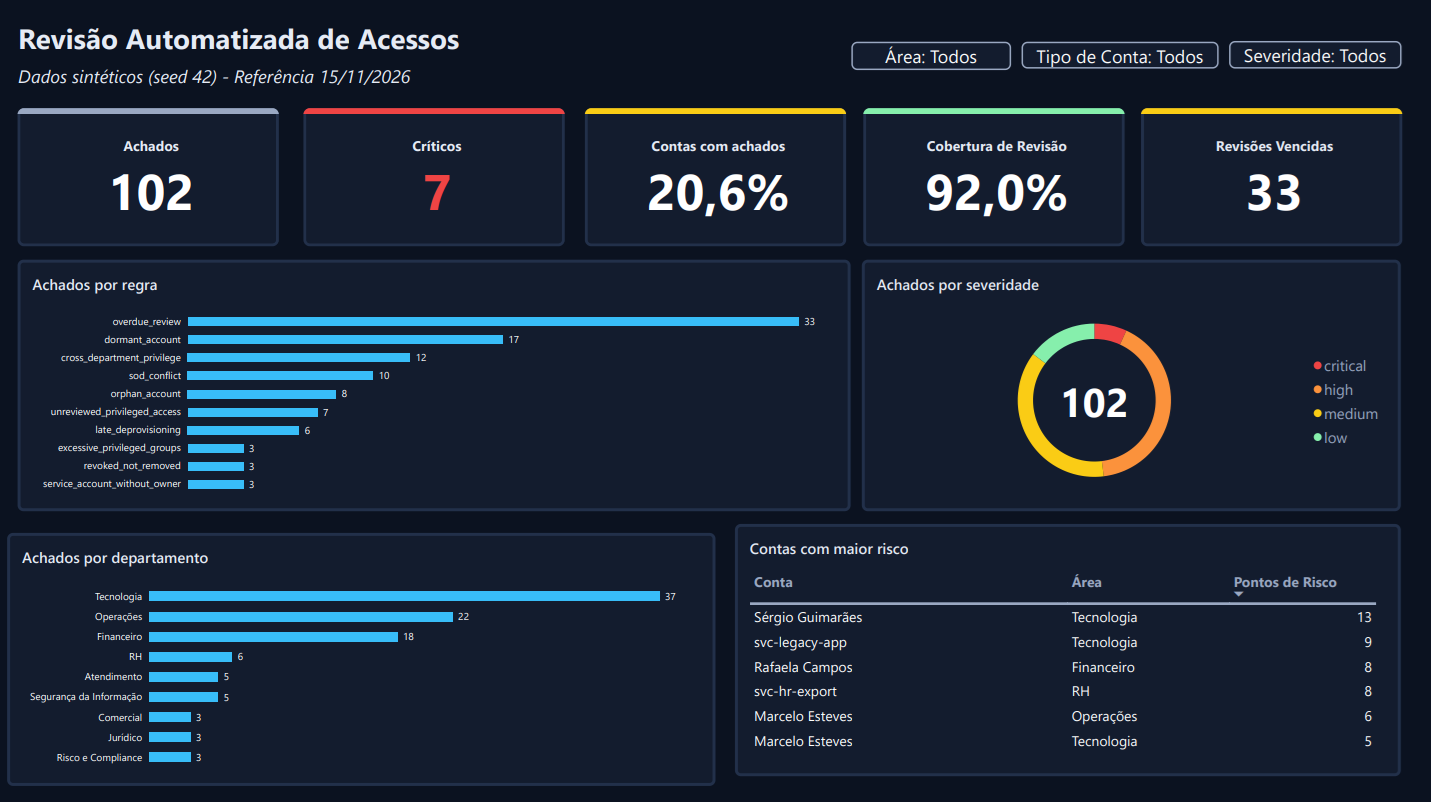

What the dashboard file says about the page in this screenshot:
{"tool":"powerbi","page":{"name":"Visão Geral","canvas":[1920,1080],"ordinal":0},"visuals":[{"type":"textbox","box":[26,26,608,60],"z":0},{"type":"textbox","box":[26,85,542,40],"z":1000},{"type":"cardVisual","fields":{"Data":["MedidasDAX.Total Findings"]},"box":[25,145,350,185],"z":2000},{"type":"cardVisual","fields":{"Data":["MedidasDAX.Critical Findings"]},"box":[407.5,145,350,185],"z":3000},{"type":"cardVisual","fields":{"Data":["MedidasDAX.% Accounts With Findings"]},"box":[785,145,350,185],"z":4000},{"type":"cardVisual","fields":{"Data":["MedidasDAX.Review Coverage %"]},"box":[1157.5,145,350,185],"z":5000},{"type":"cardVisual","fields":{"Data":["MedidasDAX.Overdue Reviews"]},"box":[1530,145,350,185],"z":6000},{"type":"barChart","title":"Achados por regra","fields":{"Category":["dim_rule.rule_name"],"Y":["MedidasDAX.Total Findings"]},"box":[25,347.5,1116.2,337.5],"z":7000},{"type":"donutChart","title":"Achados por severidade","fields":{"Category":["dim_severity.severity"],"Y":["MedidasDAX.Total Findings"]},"box":[1156.2,347.5,721.2,337.5],"z":8000},{"type":"barChart","title":"Achados por departamento","fields":{"Category":["dim_account.department"],"Y":["MedidasDAX.Total Findings"]},"box":[11.4,714.3,948.6,338.6],"z":9000},{"type":"tableEx","title":"Contas com maior risco","fields":{"Values":["dim_account.display_name","dim_account.department","MedidasDAX.Total Pontos de Risco"]},"box":[986,702,892,338],"z":10000},{"type":"textbox","box":[1142,56,214,38],"z":11000},{"type":"textbox","box":[1370,56,264,36],"z":12000},{"type":"textbox","box":[1647.5,55,231,37],"z":13000}]}

Visuals, with their boxes in screenshot pixels (x1, y1, x2, y2), scaled from the page's 1920x1080 canvas onto the 1431x802 screenshot:
textbox: (left=19, top=19, right=473, bottom=64)
textbox: (left=19, top=63, right=423, bottom=93)
cardVisual - MedidasDAX.Total Findings: (left=19, top=108, right=279, bottom=245)
cardVisual - MedidasDAX.Critical Findings: (left=304, top=108, right=565, bottom=245)
cardVisual - MedidasDAX.% Accounts With Findings: (left=585, top=108, right=846, bottom=245)
cardVisual - MedidasDAX.Review Coverage %: (left=863, top=108, right=1124, bottom=245)
cardVisual - MedidasDAX.Overdue Reviews: (left=1140, top=108, right=1401, bottom=245)
"Achados por regra" barChart: (left=19, top=258, right=851, bottom=509)
"Achados por severidade" donutChart: (left=862, top=258, right=1399, bottom=509)
"Achados por departamento" barChart: (left=8, top=530, right=716, bottom=782)
"Contas com maior risco" tableEx: (left=735, top=521, right=1400, bottom=772)
textbox: (left=851, top=42, right=1011, bottom=70)
textbox: (left=1021, top=42, right=1218, bottom=68)
textbox: (left=1228, top=41, right=1400, bottom=68)
